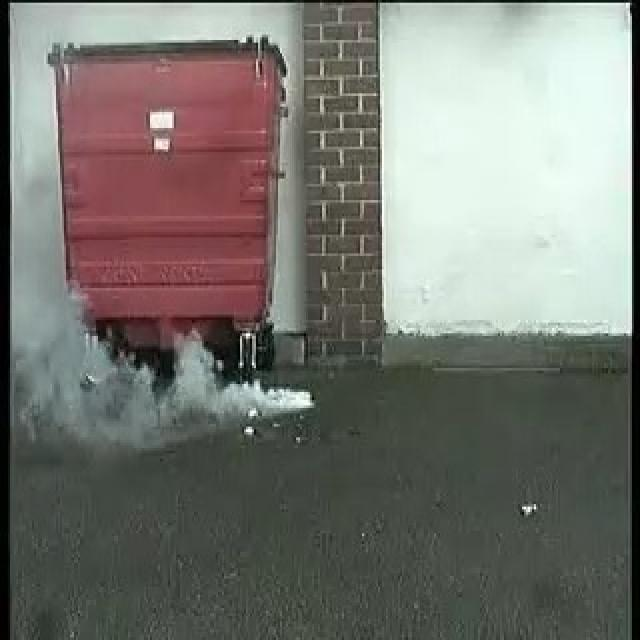smoke: (65, 325, 307, 423)
